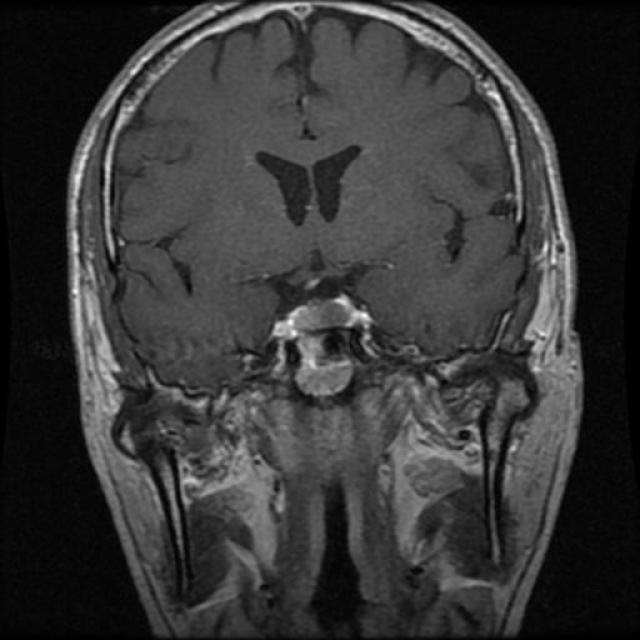pituitary: (274, 289, 376, 408)
